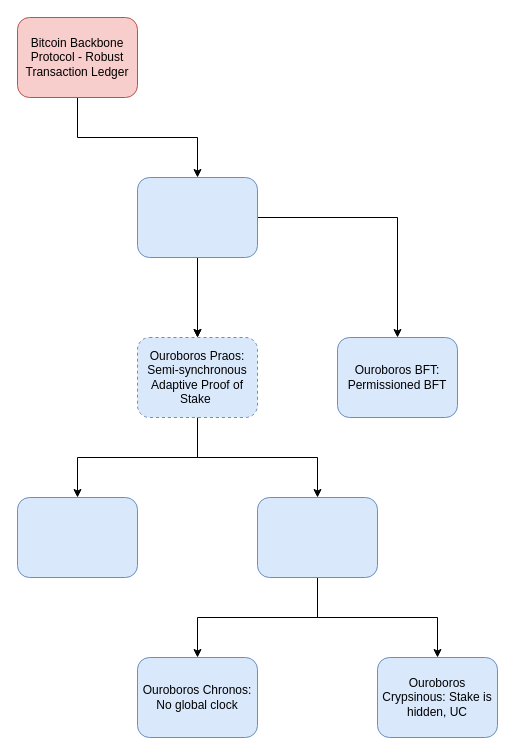
Image size: 515x755. Some labels were removed from this diagram. The shapes that lost their labels are listed below. From the top down, each one's centre as x and y in pixels, then its label:
(x=197, y=217): Ouroboros: Provable Synchronous Proof of Stake 2017
(x=77, y=537): Ouroboros Taktikos: Dynamic Local Difficulty
(x=317, y=537): Ouroboros Genesis: Sync using only Genesis
